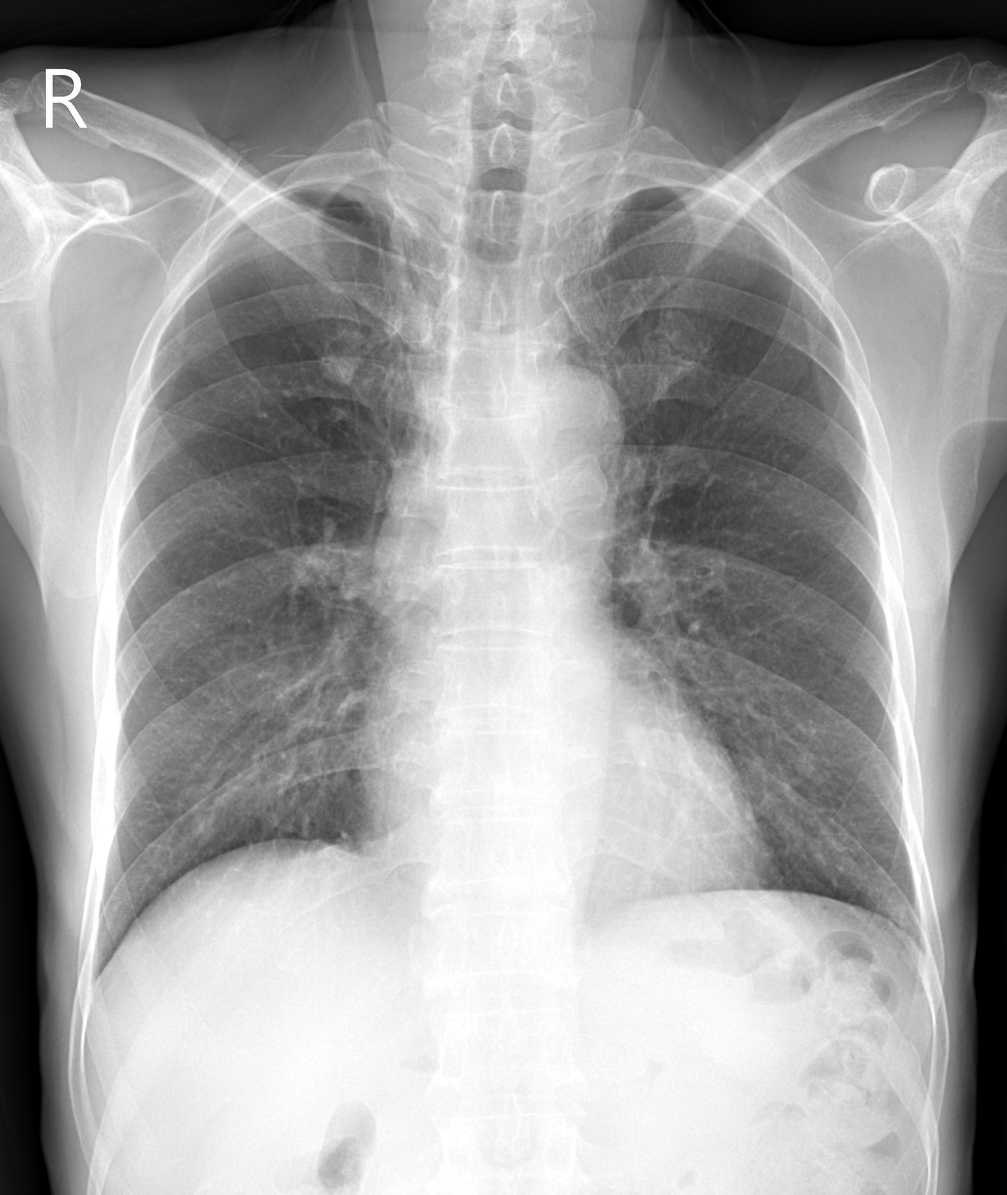Aortic enlargement: (516, 362, 628, 536)
Pleural thickening: (301, 166, 387, 225)
